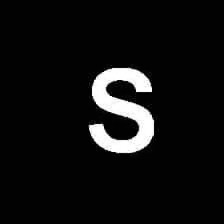LTR_S: (84, 60, 159, 157)
